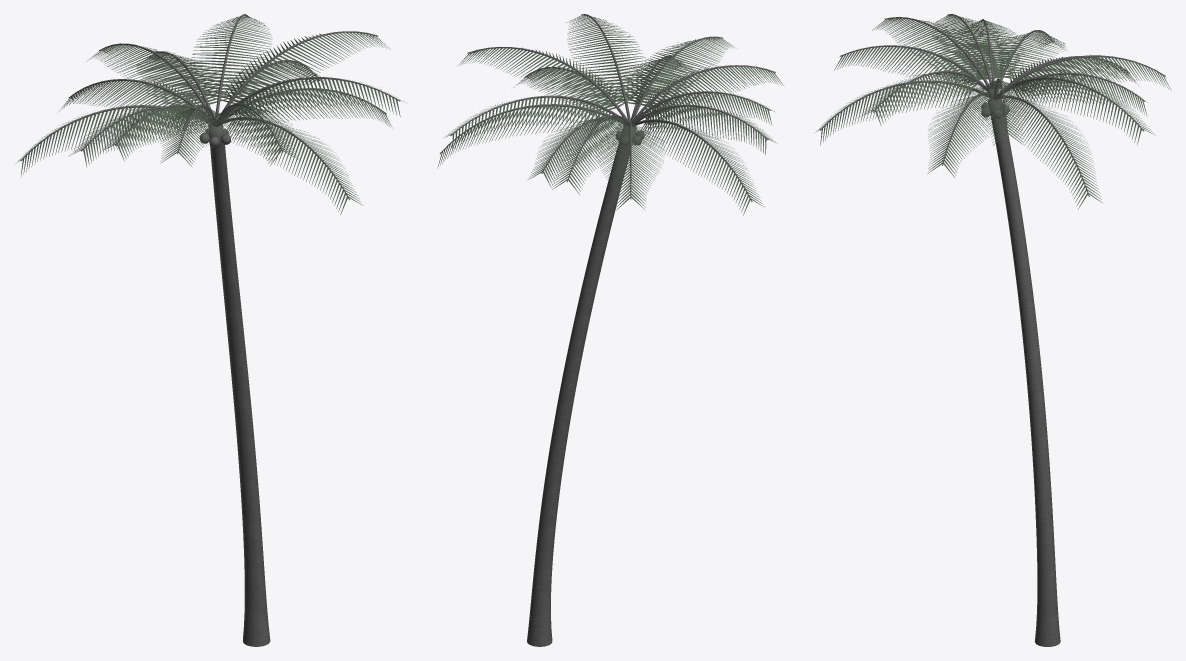
File: SM_Island_Palm_B.fbx
3 views of the same model, side by side, from view 1: azimuth 30°, elevation 25°; view 2: azimuth 150°, elevation 25°; view 3: azimuth 270°, elevation 25° (orthographic). The views are drawn at different scales.
Visible parts, largest first — view 1: SM_Island_Palm_B; view 2: SM_Island_Palm_B; view 3: SM_Island_Palm_B.
Part boxes in pixels (<box>): SM_Island_Palm_B: <box>17,14,403,646</box>; SM_Island_Palm_B: <box>437,14,784,646</box>; SM_Island_Palm_B: <box>815,14,1171,646</box>.
Size of the model in its own units: 783 by 1332 by 763.
Materials: 2 (2 with a texture image).
